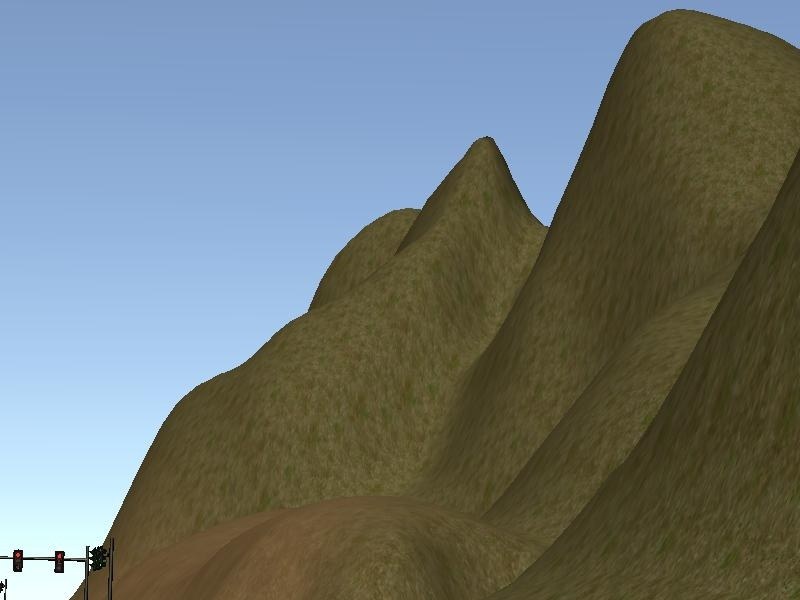traffic_light_red: (2, 548, 84, 576)
